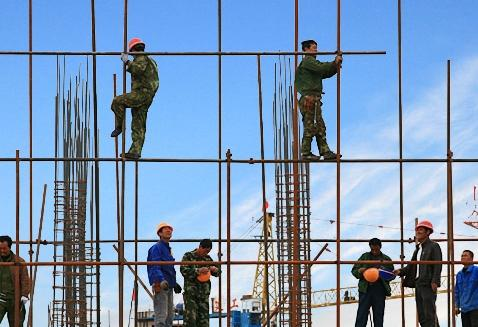boots: (321, 150, 342, 159), (301, 152, 320, 160), (120, 151, 141, 158), (110, 128, 122, 137)
gloves: (159, 280, 168, 290), (120, 52, 128, 62), (20, 295, 28, 304), (174, 283, 181, 293), (454, 307, 460, 315)
hard-hat: (363, 268, 379, 283), (414, 220, 432, 233), (195, 267, 209, 283), (128, 38, 145, 51), (155, 223, 172, 235), (301, 40, 317, 51)
person: (109, 37, 160, 159), (294, 39, 342, 160), (392, 219, 443, 326), (351, 237, 395, 326), (145, 222, 181, 327), (179, 237, 221, 326), (0, 234, 32, 327), (452, 250, 477, 327)
ppe-suit: (109, 52, 160, 158), (293, 54, 340, 159), (179, 249, 220, 327)
